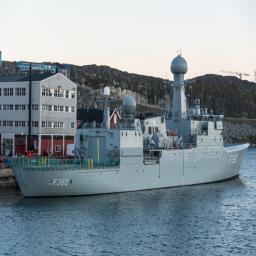Fragata: (8, 52, 251, 200)
